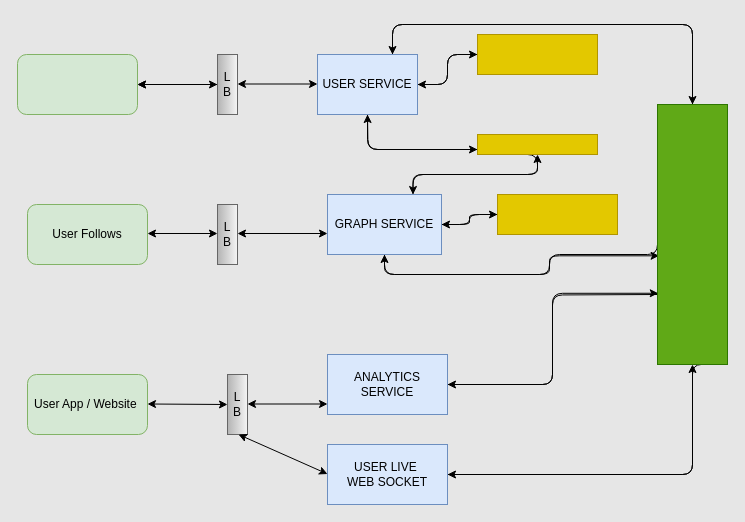
This 745x522 diagram has some shape labels left out. Each missing label, with the centre of its shape:
K A F K A: [692,234]
REDIS: [537,144]
User - On Boarding - Login: [77,84]
User DB My SQL: [537,54]
USER GRAPH DB My SQL Cluster: [557,214]
